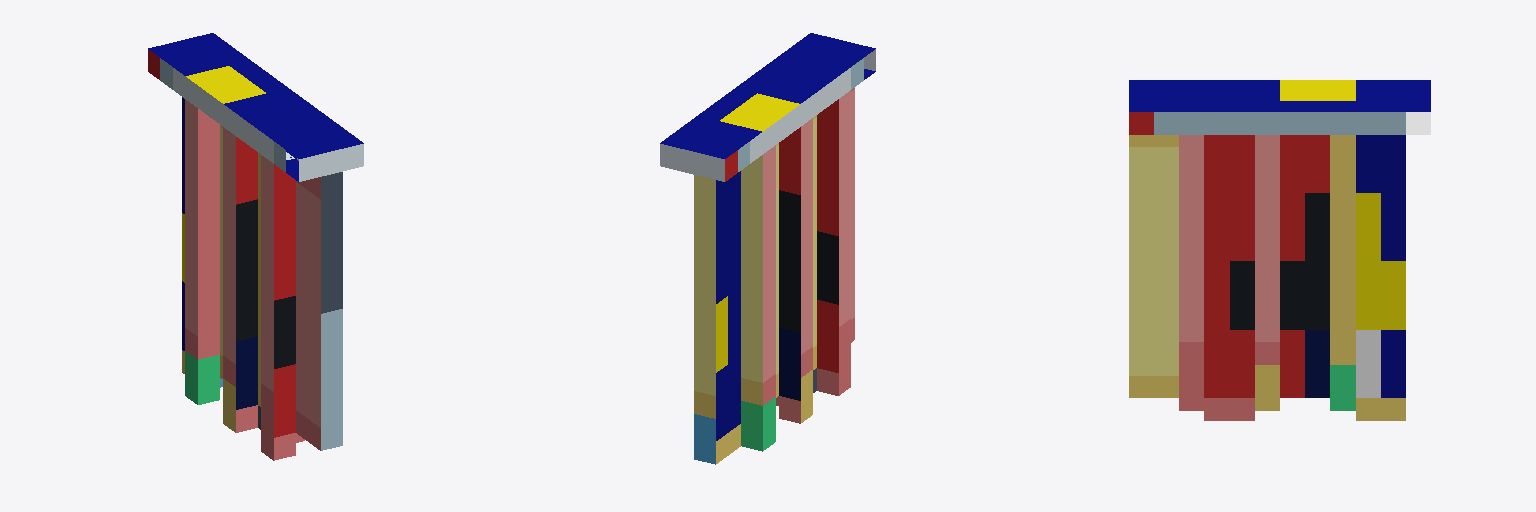
3 renders of one model, left to right at view 1: azimuth 30°, elevation 25°; view 2: azimuth 150°, elevation 25°; view 3: azimuth 270°, elevation 25°, orthographic.
Parts seen in each view (by area): view 1: cube; view 2: cube; view 3: cube.
Part boxes in pixels (bbox=[...]): cube: bbox=[148, 33, 363, 460]; cube: bbox=[660, 33, 875, 464]; cube: bbox=[1129, 80, 1430, 420].
Size of the model in its own units: 0.1875 by 0.875 by 0.75.
1 materials, 1 textured.